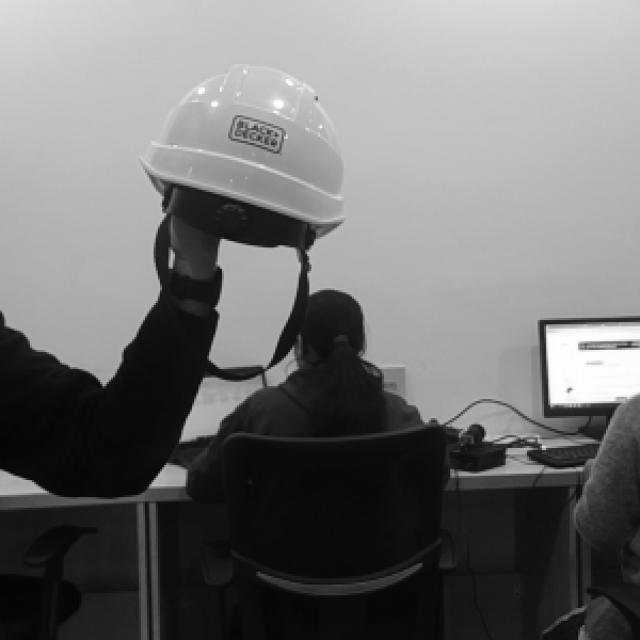safety_helmet: (140, 65, 346, 246)
